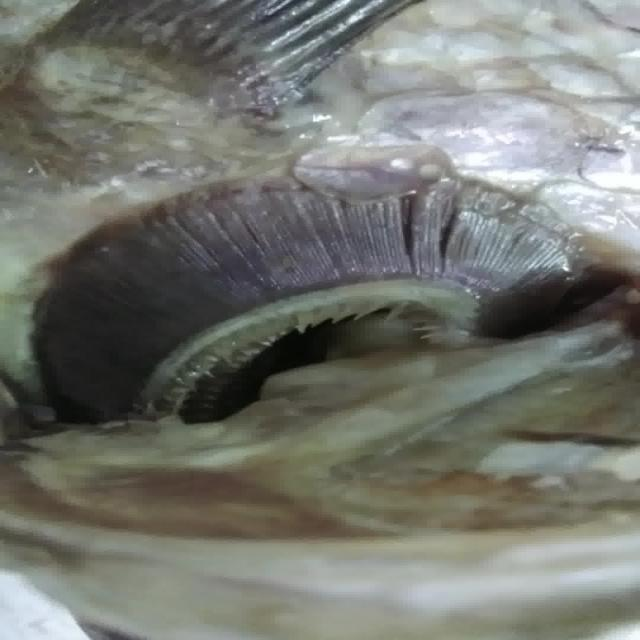Non-Fresh: (24, 170, 604, 427)
